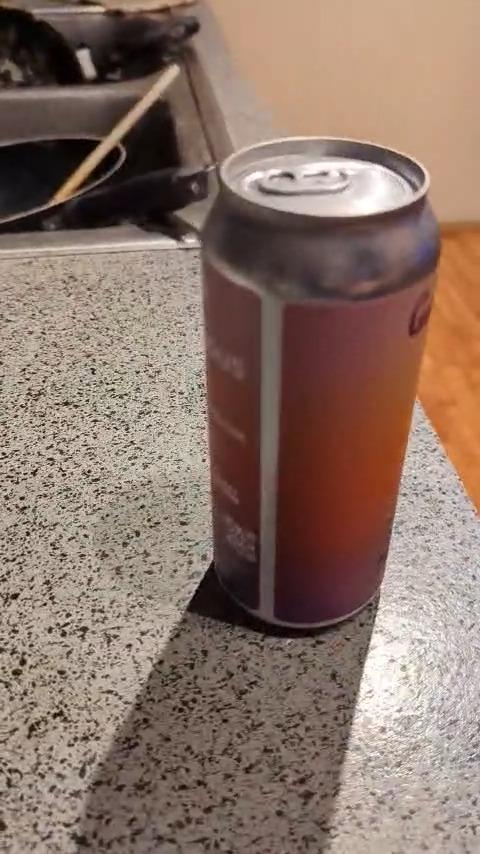metal: (203, 137, 439, 627)
